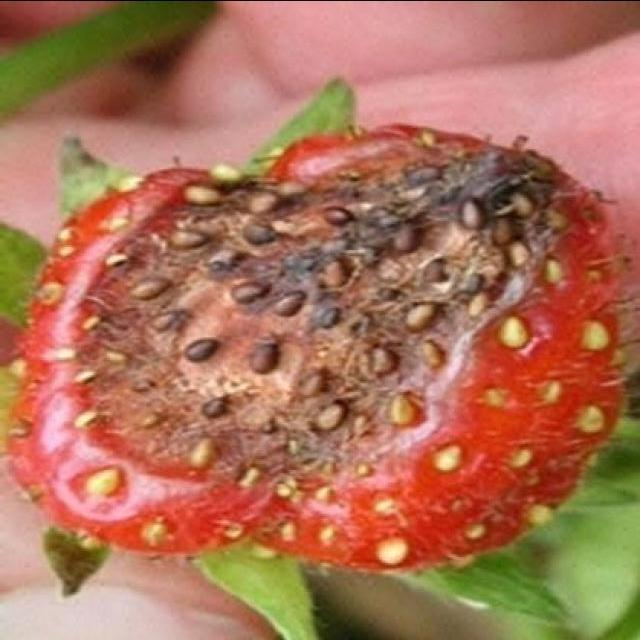Anthracnose Fruit Rot: (8, 123, 627, 594)
